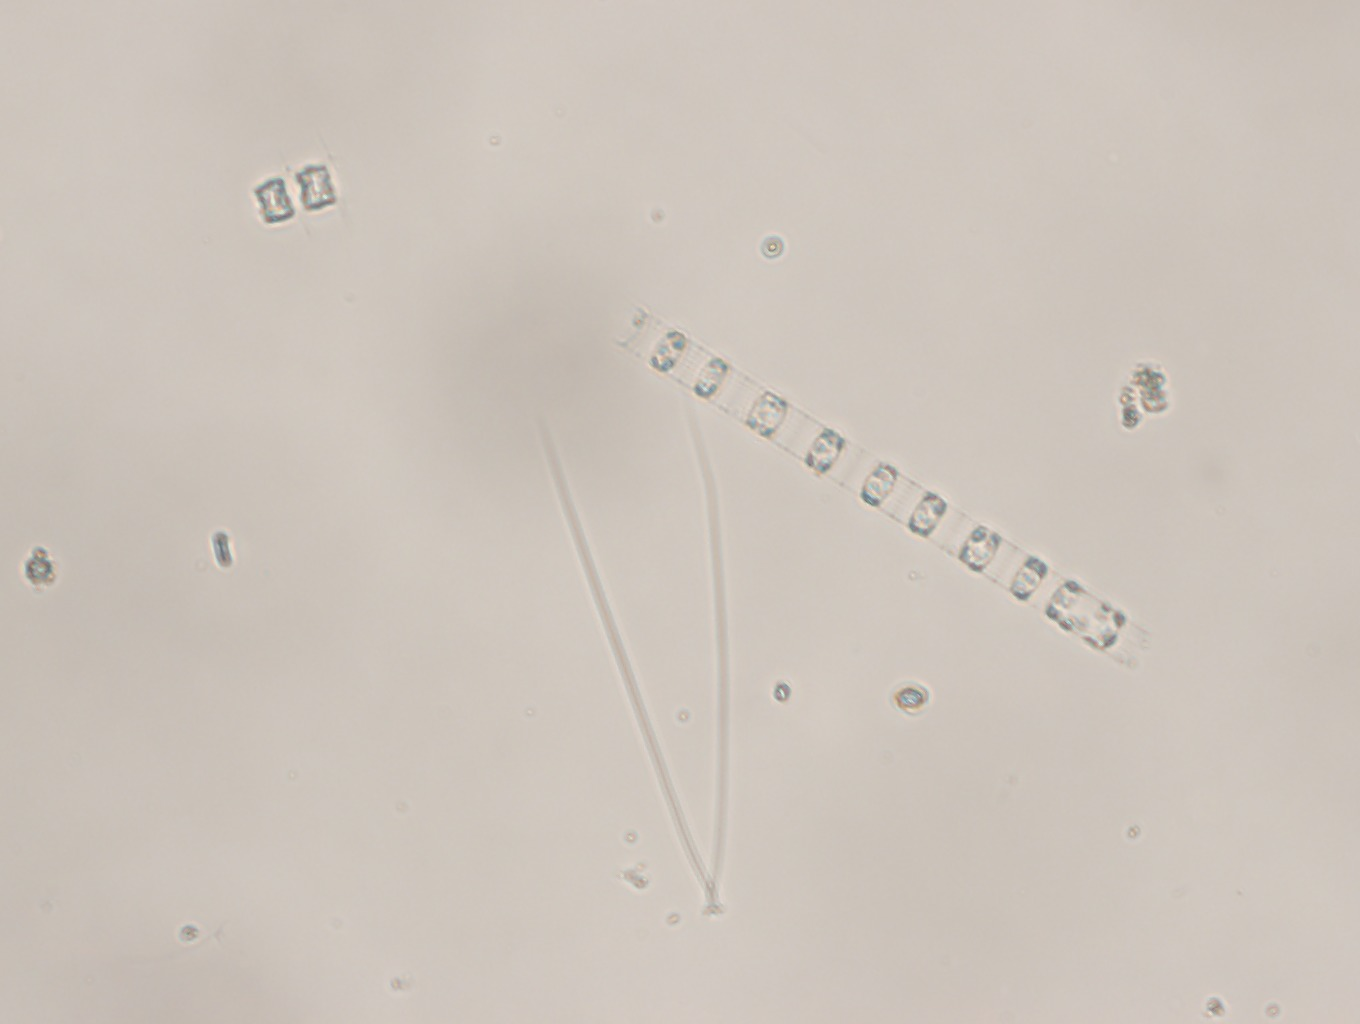chaetoceros: (232, 142, 361, 262)
skeletonema: (615, 297, 1162, 675)
